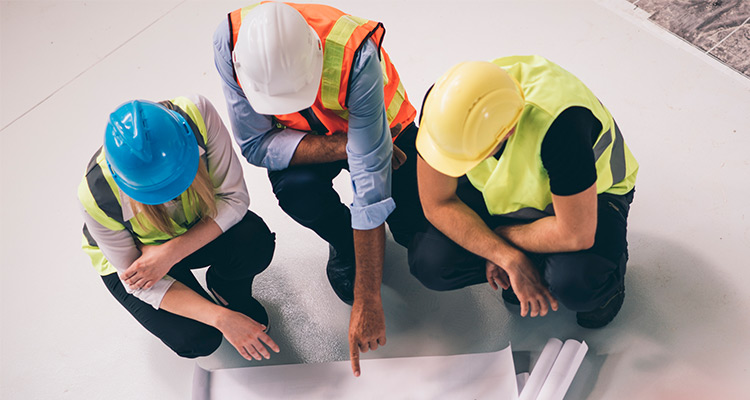epi: (212, 3, 429, 294), (415, 47, 625, 320), (72, 94, 280, 361)
